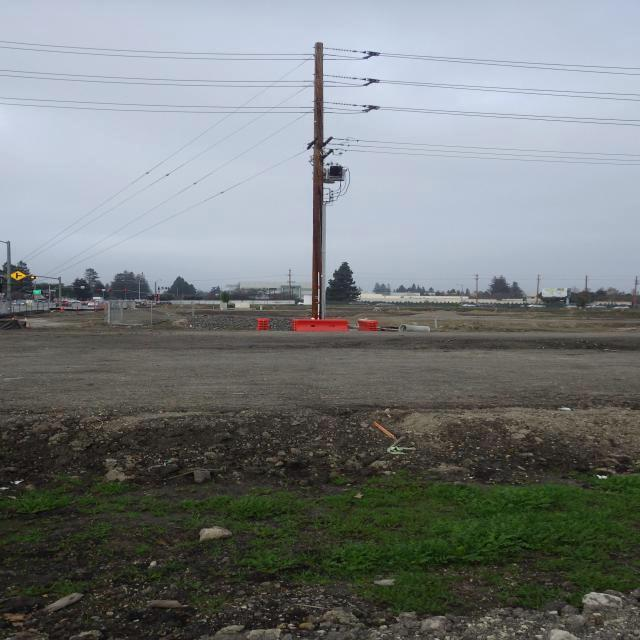crossarm: (323, 137, 334, 147), (324, 149, 333, 159), (307, 139, 313, 151)
pole: (314, 42, 323, 319)
transformer: (325, 167, 342, 183), (323, 189, 331, 203)
wire: (22, 54, 314, 261), (25, 81, 314, 262), (45, 106, 315, 276), (52, 145, 314, 277), (0, 41, 366, 59), (0, 46, 365, 61), (0, 70, 365, 85), (379, 81, 639, 102), (377, 55, 640, 75), (355, 145, 640, 162), (357, 140, 640, 157), (0, 98, 367, 111), (378, 108, 640, 126), (378, 52, 640, 69), (379, 79, 640, 96), (354, 150, 640, 165), (379, 106, 640, 122), (0, 103, 369, 114), (1, 76, 365, 87), (332, 169, 350, 198)
